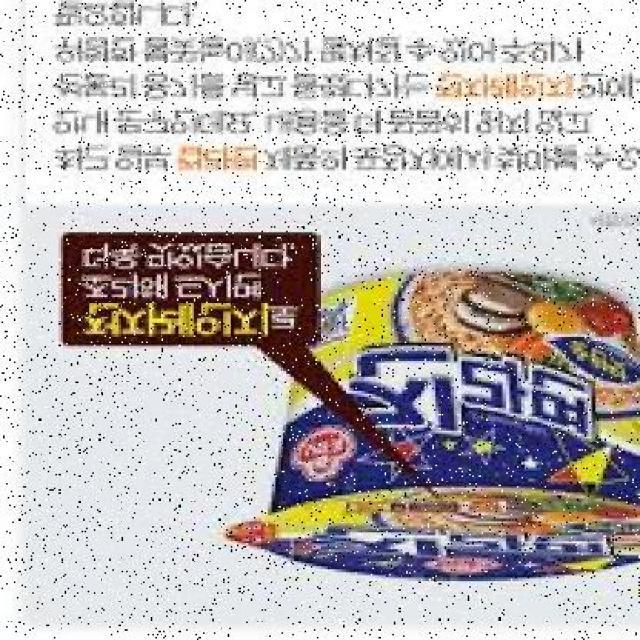Miscellaneous: (257, 270, 640, 592)
